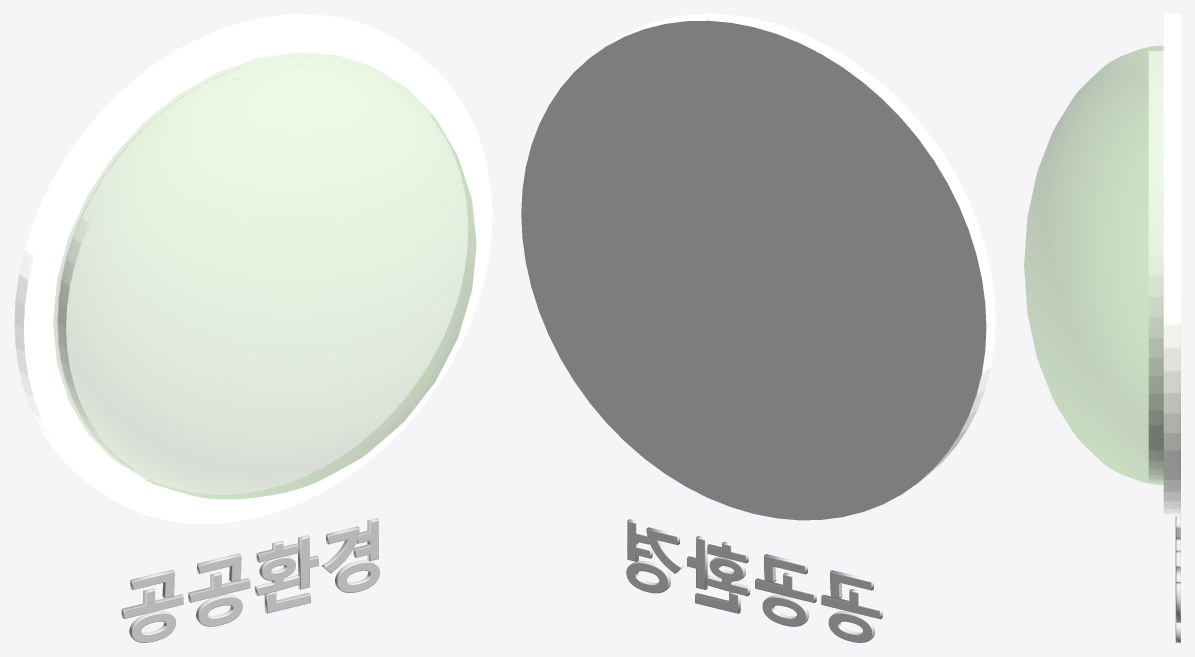
File: button-d.glb
The picture shows the model from 3 angles, left to right: view 1: azimuth 30°, elevation 25°; view 2: azimuth 150°, elevation 25°; view 3: azimuth 270°, elevation 25°; orthographic projection. The views are drawn at different scales.
Parts seen in each view (by area): view 1: Sphere.003, Cylinder.013, Cylinder.009, Text.075; view 2: Cylinder.009, Text.075; view 3: Sphere.003, Cylinder.009, Cylinder.013, Text.075.
Boxes of the visible parts, x1,y1,x2,y2 form: Sphere.003: (53, 53, 475, 498); Cylinder.013: (58, 57, 468, 494); Cylinder.009: (14, 14, 492, 524); Text.075: (121, 518, 379, 642); Cylinder.009: (521, 14, 995, 520); Text.075: (626, 519, 882, 642); Sphere.003: (1024, 46, 1163, 484); Cylinder.009: (1163, 14, 1180, 516); Cylinder.013: (1148, 51, 1163, 481); Text.075: (1175, 516, 1180, 642).
Bounding box in the file's own units: 0.2199 × 0.2671 × 0.0686.
